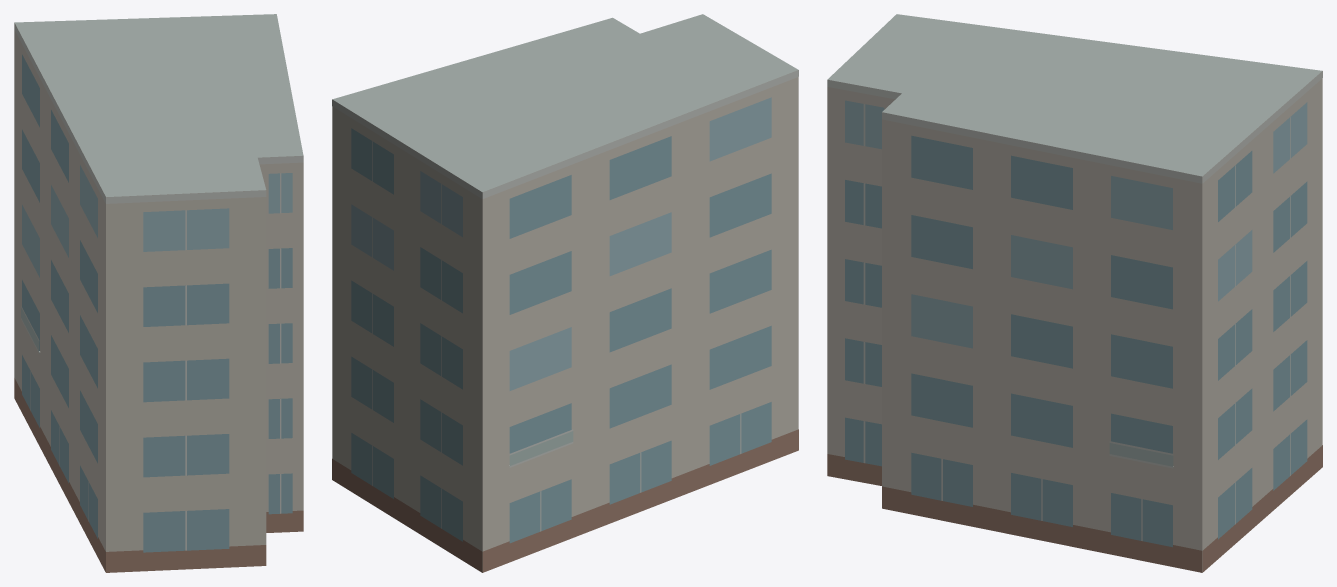
Rendered from survey-upis-33023382.glb.
3 renders of one model, left to right at view 1: azimuth 30°, elevation 25°; view 2: azimuth 150°, elevation 25°; view 3: azimuth 270°, elevation 25°, orthographic. The views are drawn at different scales.
Parts seen in each view (by area): view 1: survey-upis-33023382.tmp; view 2: survey-upis-33023382.tmp; view 3: survey-upis-33023382.tmp.
Boxes of the visible parts, x1,y1,x2,y2 form: survey-upis-33023382.tmp: (14,14,303,572); survey-upis-33023382.tmp: (332,14,798,572); survey-upis-33023382.tmp: (827,14,1322,572).
Size of the model in its own units: 11.79 by 13.4 by 15.19.
